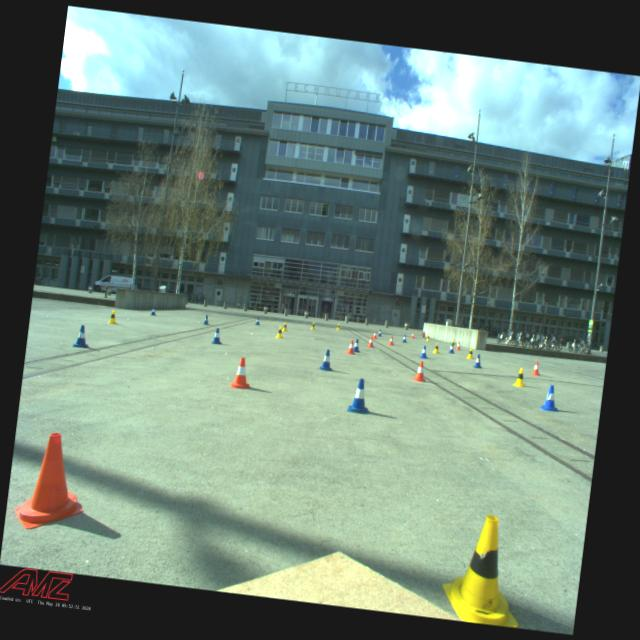blue_cone: (346, 377, 372, 414), (539, 383, 562, 411), (72, 324, 90, 348), (317, 348, 336, 370), (472, 352, 484, 368), (212, 327, 223, 344), (352, 338, 362, 352), (418, 345, 428, 358), (448, 342, 456, 353), (150, 306, 157, 316), (203, 314, 210, 324), (254, 316, 260, 325), (402, 333, 408, 342), (377, 329, 382, 336)
orange_cone: (12, 428, 92, 536), (230, 356, 253, 390), (410, 359, 428, 382), (530, 360, 542, 376), (345, 339, 356, 355), (366, 336, 375, 348), (454, 340, 462, 350), (388, 336, 395, 346), (372, 331, 377, 338), (410, 332, 415, 338)
yellow_cone: (437, 508, 531, 628), (511, 367, 528, 388), (107, 308, 119, 324), (274, 324, 284, 338), (432, 342, 440, 354), (466, 347, 474, 359), (282, 321, 288, 332), (310, 320, 316, 330), (449, 339, 455, 348), (336, 323, 341, 330), (425, 334, 430, 341)
